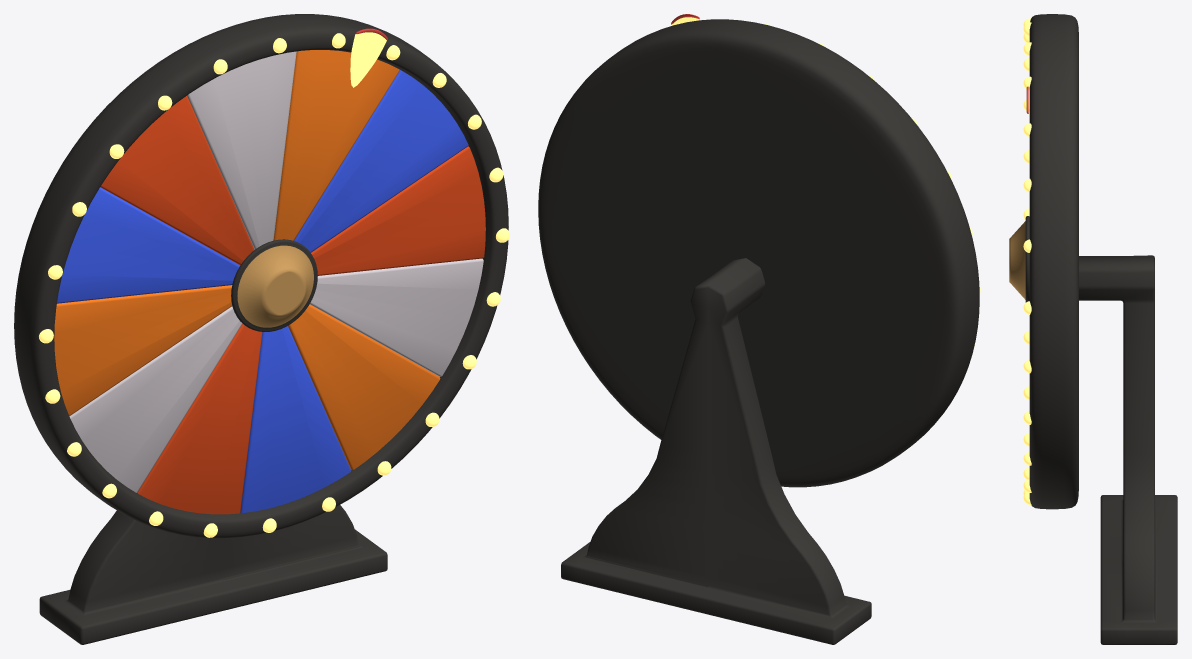
The model's file is roullete.glb.
The picture shows the model from 3 angles, left to right: view 1: azimuth 30°, elevation 25°; view 2: azimuth 150°, elevation 25°; view 3: azimuth 270°, elevation 25°; orthographic projection. The views are drawn at different scales.
Visible parts, largest first — view 1: Valores_Ruleta_4, Marco_Ruleta_2, Base_5, Eje_0, Luces_espheres_1, Plano.002_3; view 2: Marco_Ruleta_2, Base_5; view 3: Marco_Ruleta_2, Base_5, Luces_espheres_1, Eje_0.
Part boxes in pixels (x1,y1,x2,y2): Valores_Ruleta_4: (54,50,485,514); Marco_Ruleta_2: (14,14,508,538); Base_5: (39,505,387,644); Eje_0: (231,239,317,331); Luces_espheres_1: (39,33,509,537); Plano.002_3: (350,28,387,87); Marco_Ruleta_2: (538,19,979,487); Base_5: (561,258,871,644); Marco_Ruleta_2: (1029,14,1078,509); Base_5: (1079,255,1177,644); Luces_espheres_1: (1023,18,1031,504); Eje_0: (1009,216,1029,302).
Bounding box in the file's own units: 0.9967 × 1.2 × 0.3387.
